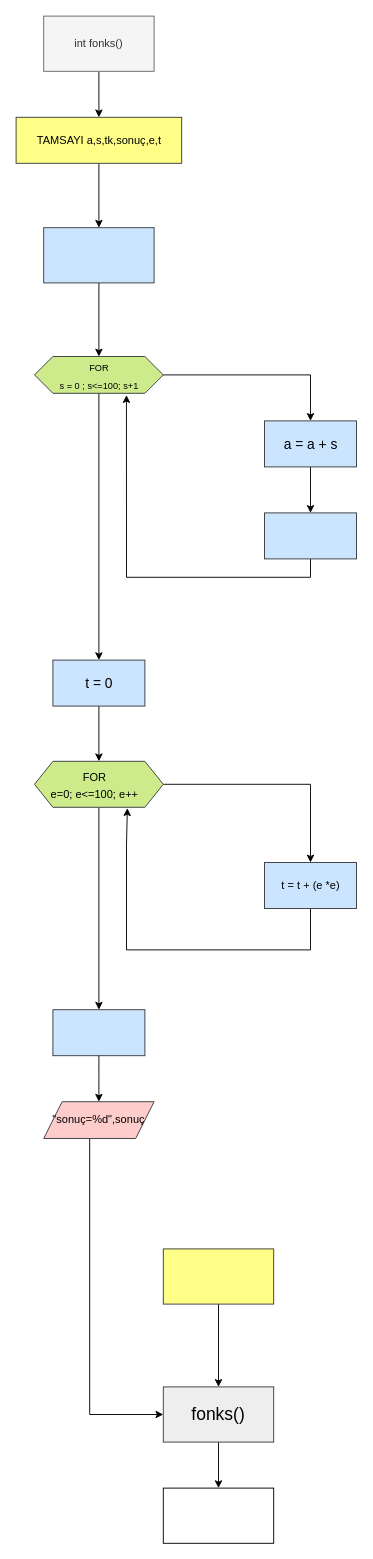
Image size: 373x1559. Some labels were removed from this diagram. The box of each missing label's shape, as (x1, y1, x2, y2) in pixels:
a = 0: (43, 227, 154, 283)
end: (162, 1487, 274, 1543)
int main: (162, 1248, 274, 1304)
sonuç = tk - t: (52, 1009, 145, 1056)
tk = a * a: (264, 512, 356, 559)
